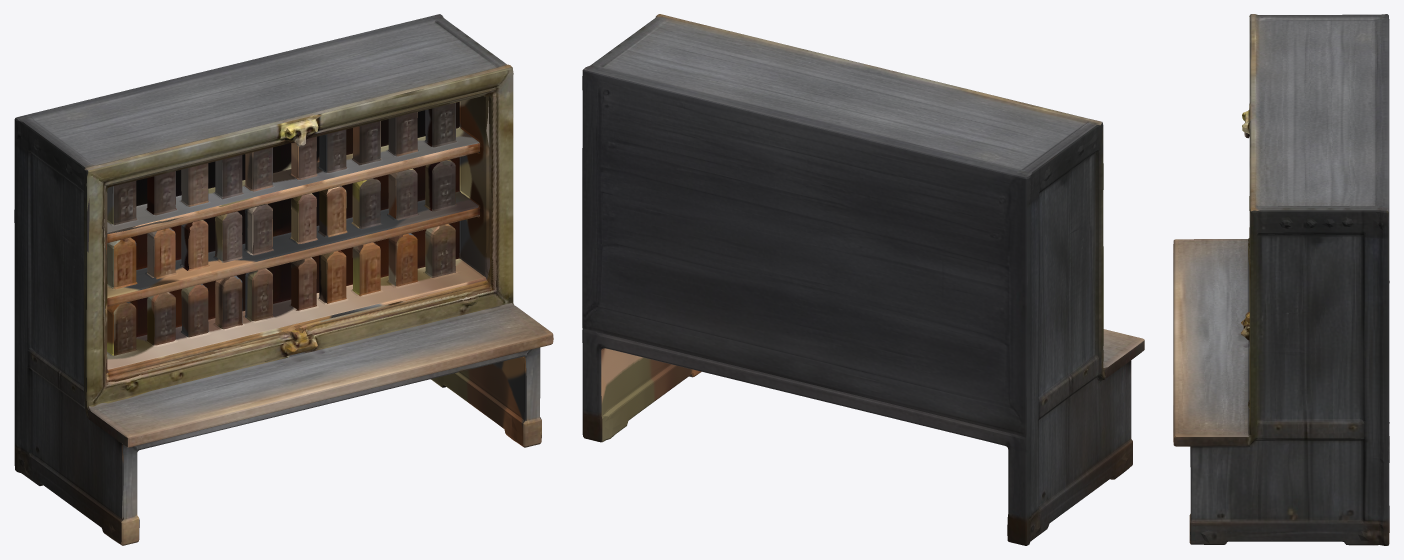
File: traveler_env_coast_hiruma_ancestor_tablets_00001_.glb
The picture shows the model from 3 angles, left to right: view 1: azimuth 30°, elevation 25°; view 2: azimuth 150°, elevation 25°; view 3: azimuth 270°, elevation 25°; orthographic projection. The views are drawn at different scales.
Visible parts, largest first — view 1: temp_mesh.ply; view 2: temp_mesh.ply; view 3: temp_mesh.ply.
Part boxes in pixels (x1=…): temp_mesh.ply: x1=14, y1=14, x2=553, y2=545; temp_mesh.ply: x1=582, y1=14, x2=1144, y2=545; temp_mesh.ply: x1=1173, y1=14, x2=1389, y2=545.
Size of the model in its own units: 1.97 by 1.57 by 0.9119.
Materials: 1 (1 with a texture image).
